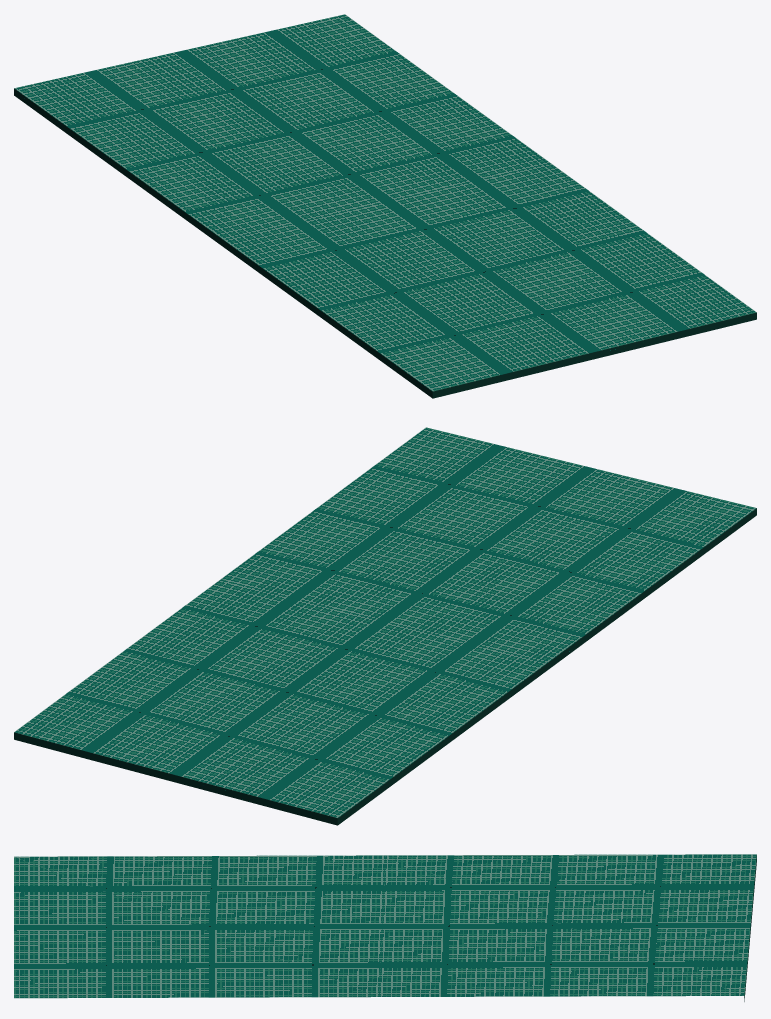
Rendered from 5240item2921.gltf.
The picture shows the model from 3 angles, top to bottom: view 1: azimuth 30°, elevation 25°; view 2: azimuth 150°, elevation 25°; view 3: azimuth 270°, elevation 25°; orthographic projection. The views are drawn at different scales.
Visible parts, largest first — view 1: 5240item2921; view 2: 5240item2921; view 3: 5240item2921.
Part boxes in pixels (x1,y1,x2,y2): 5240item2921: [14, 14, 756, 398]; 5240item2921: [14, 427, 756, 825]; 5240item2921: [14, 854, 756, 1001].
Size of the model in its own units: 0.8604 by 0.0195 by 1.88.
1 material, 1 textured.
